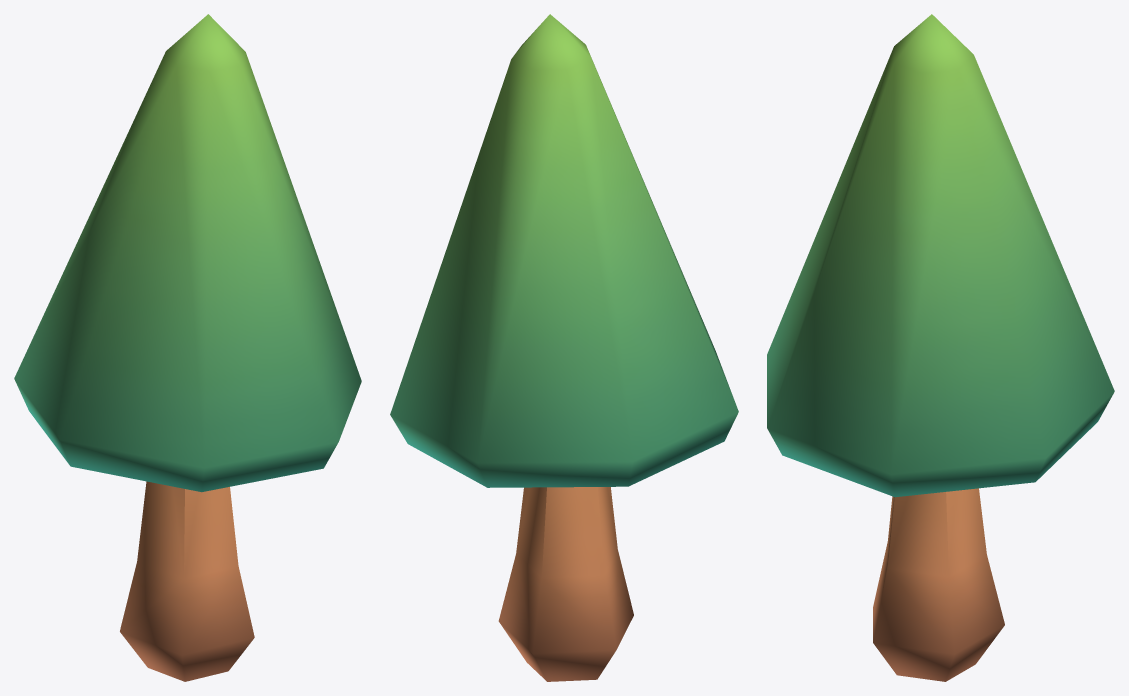
File: mushroom_cone.fbx
3 renders of one model, left to right at view 1: azimuth 30°, elevation 25°; view 2: azimuth 150°, elevation 25°; view 3: azimuth 270°, elevation 25°, orthographic. The views are drawn at different scales.
Visible parts, largest first — view 1: mushroom_cone.001; view 2: mushroom_cone.001; view 3: mushroom_cone.001.
Part boxes in pixels (left/top/right/bottom): mushroom_cone.001: left=14, top=14, right=361, bottom=681; mushroom_cone.001: left=390, top=14, right=738, bottom=681; mushroom_cone.001: left=767, top=14, right=1114, bottom=681.
Bounding box in the file's own units: 0.2271 × 0.4641 × 0.2217.
